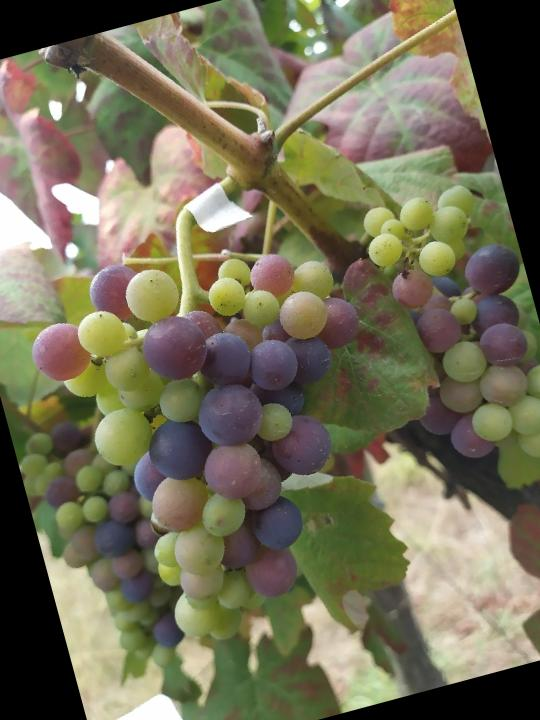grape: (10, 201, 434, 673), (355, 170, 540, 490)
